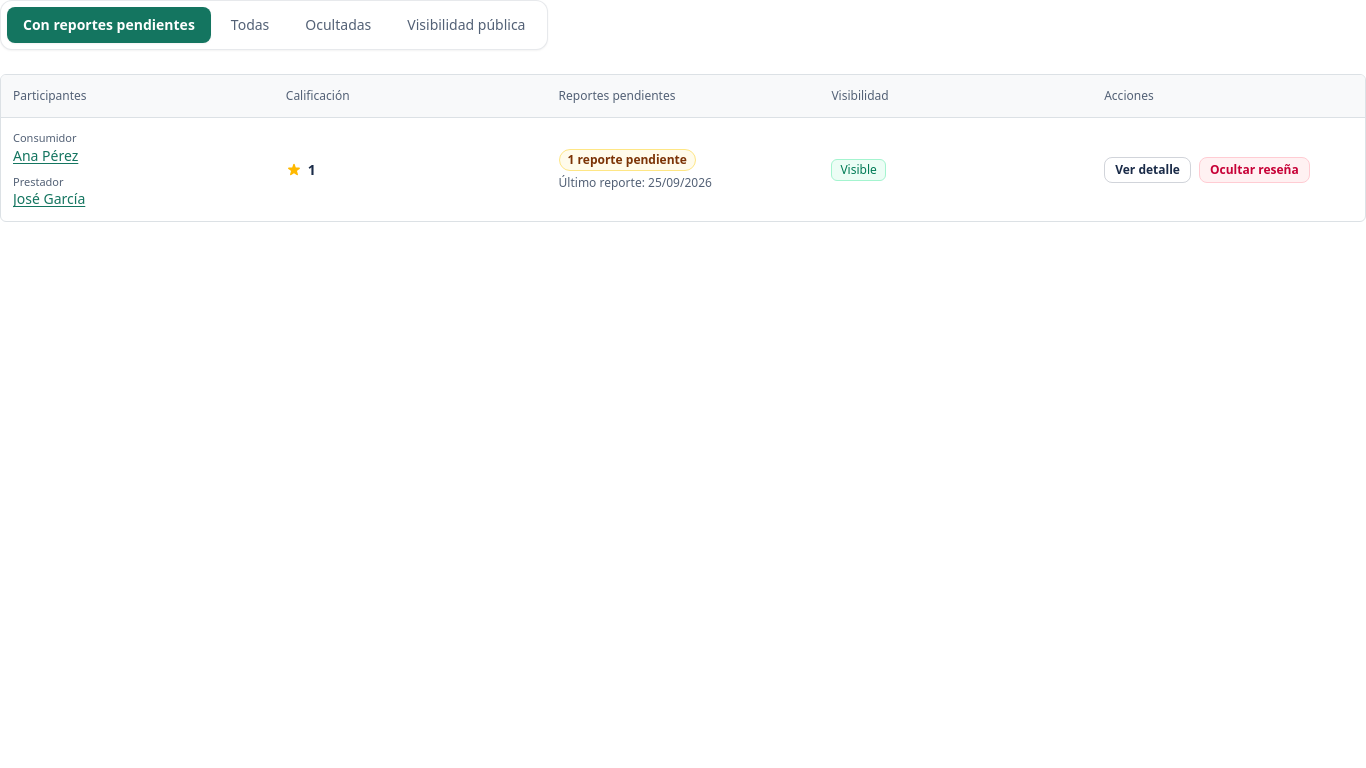
Test: ModerationPage › loads a report detail and sends a versioned hide command
This screenshot has width=1366, height=768.
Expected: the link "Ana Pérez" is shown, [13,146,78,165]
Click the button "Ocultar reseña" at (1254, 170), box [1199,157,1310,183]
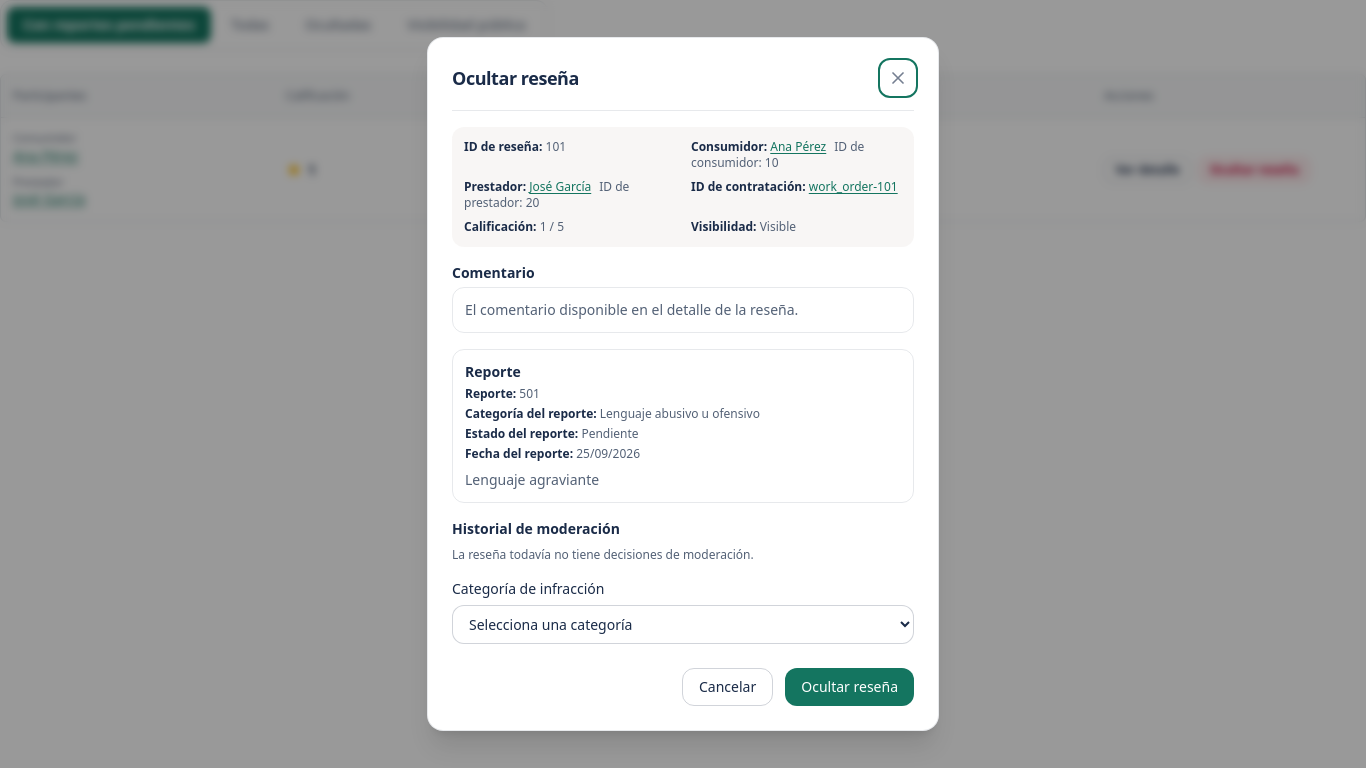
Expected: the text "Lenguaje agraviante" is shown, [465,470,599,489]
Select "Lenguaje abusivo u ofensivo" in the dropdown labelled "Categoría de infracción" at (683, 624), box [452,605,914,644]
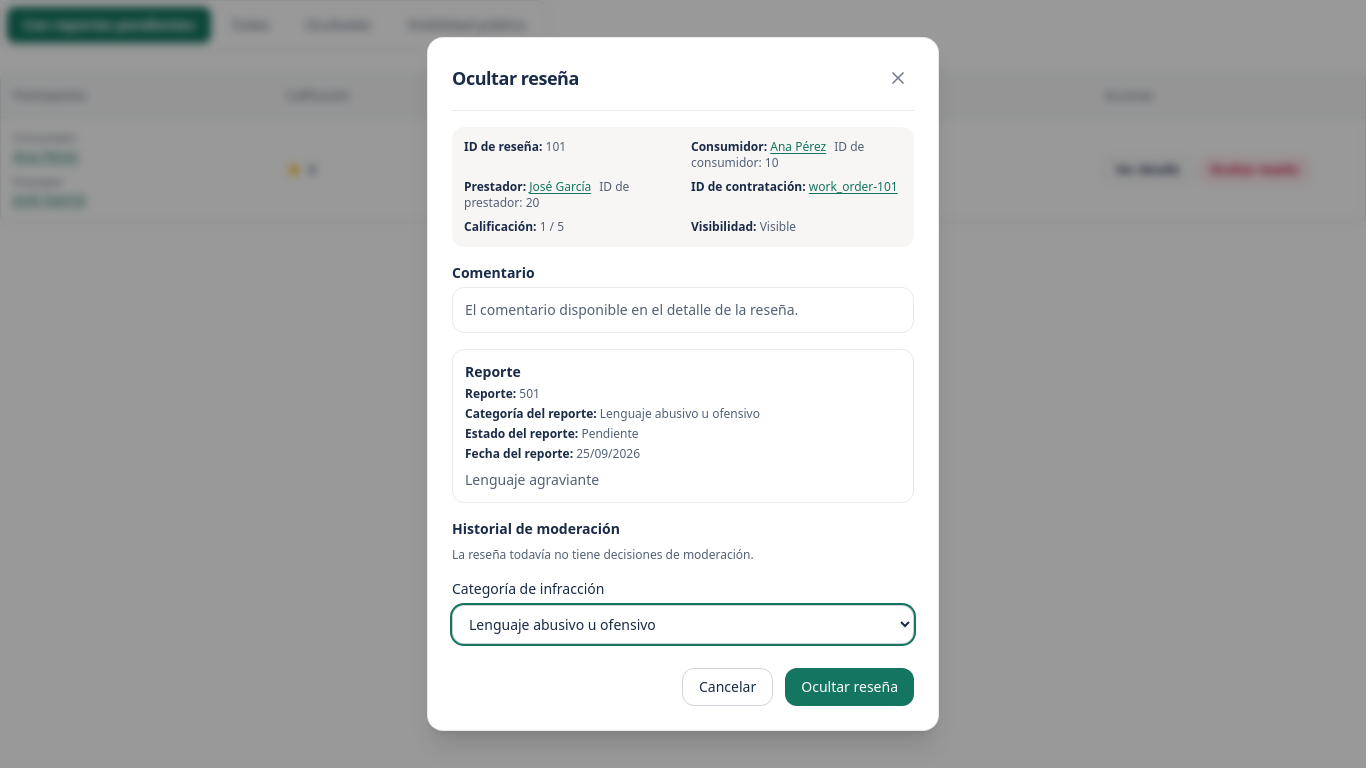
Click the button "Ocultar reseña" at (850, 687), box [785,668,914,706]
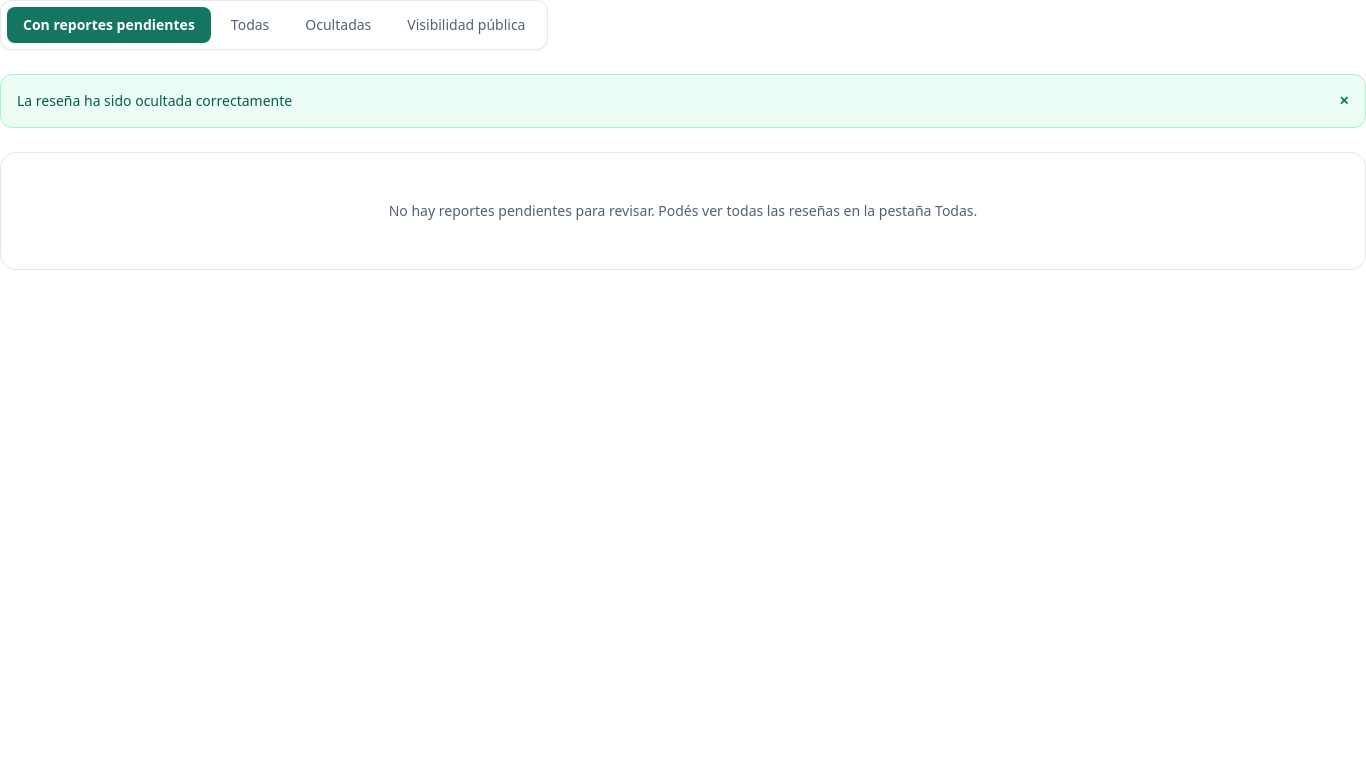
Expected: the dialog is gone
Expected: the message with test id "moderation-feedback" shows "La reseña ha sido ocultada correctamente", [17,91,292,110]
Expected: the text "No hay reportes pendientes para revisar. Podés ver todas las reseñas en la pestaña Todas." is shown, [389,201,977,220]
